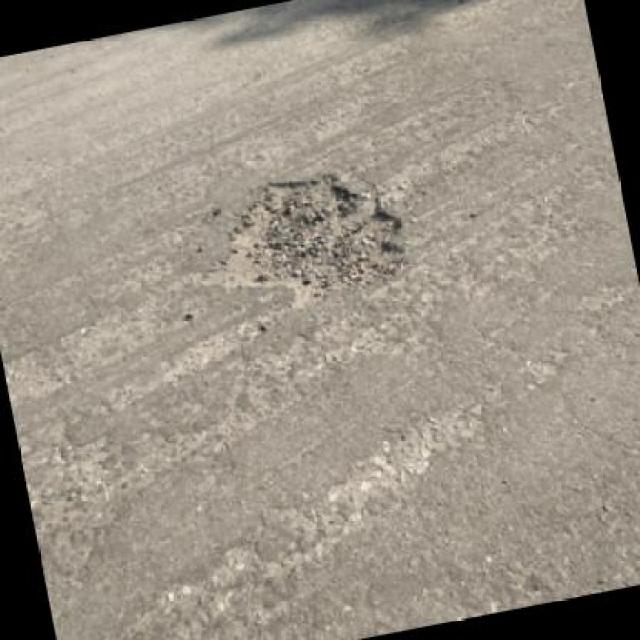pothole1: (183, 153, 420, 329)
